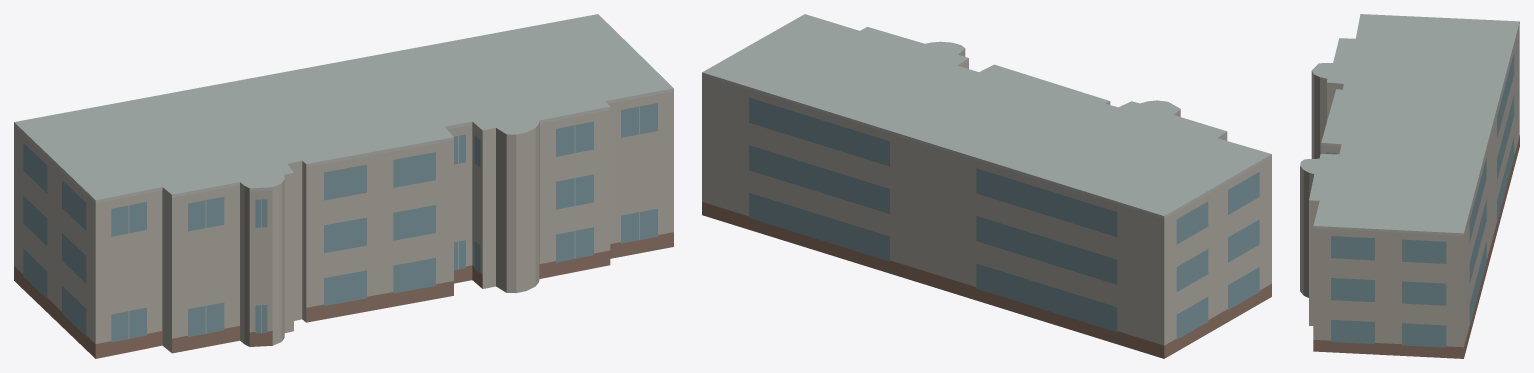
File: survey-upis-32951533.glb
3 views of the same model, side by side, from view 1: azimuth 30°, elevation 25°; view 2: azimuth 150°, elevation 25°; view 3: azimuth 270°, elevation 25° (orthographic). The views are drawn at different scales.
Visible parts, largest first — view 1: survey-upis-32951533.tmp; view 2: survey-upis-32951533.tmp; view 3: survey-upis-32951533.tmp.
Boxes of the visible parts, bbox=[...] form: survey-upis-32951533.tmp: bbox=[14, 14, 673, 358]; survey-upis-32951533.tmp: bbox=[702, 14, 1271, 358]; survey-upis-32951533.tmp: bbox=[1300, 14, 1519, 358].
Bounding box in the file's own units: 45 × 12.01 × 19.05.
